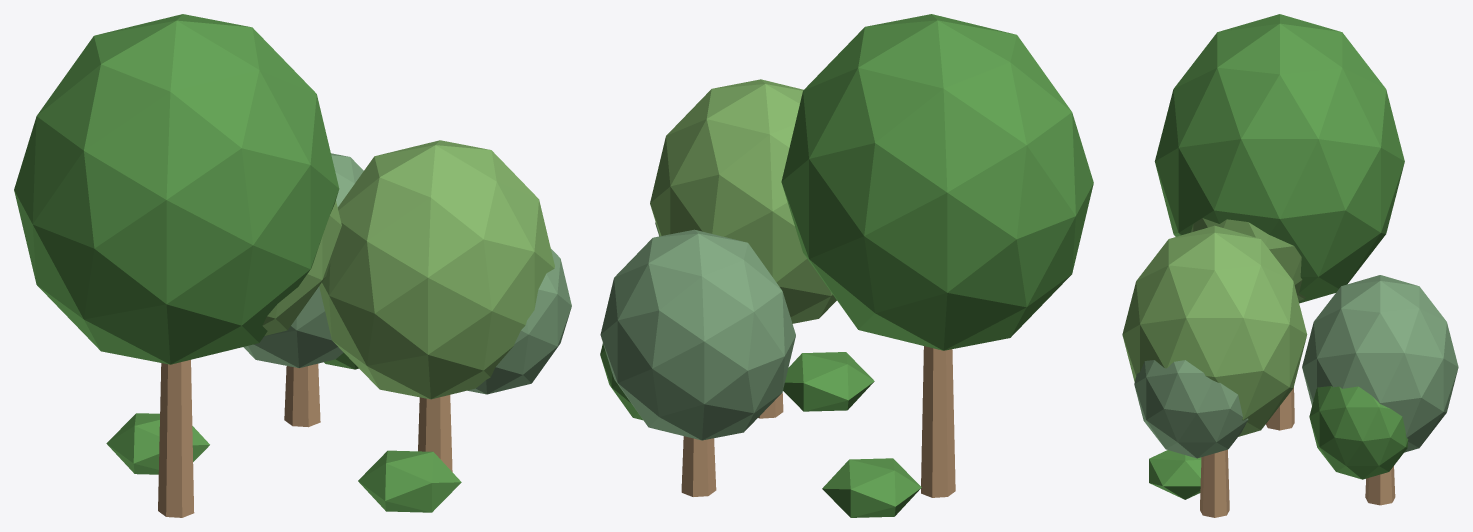
File: deco_tree_cluster_a.glb
3 renders of one model, left to right at view 1: azimuth 30°, elevation 25°; view 2: azimuth 150°, elevation 25°; view 3: azimuth 270°, elevation 25°, orthographic. The views are drawn at different scales.
Visible parts, largest first — view 1: deco_tree_cluster_a; view 2: deco_tree_cluster_a; view 3: deco_tree_cluster_a.
Part boxes in pixels (bbox=[...]): deco_tree_cluster_a: bbox=[14, 14, 571, 517]; deco_tree_cluster_a: bbox=[600, 14, 1093, 517]; deco_tree_cluster_a: bbox=[1122, 14, 1458, 517].
Size of the model in its own units: 3.83 by 3.74 by 2.84.
1 material, 1 textured.
